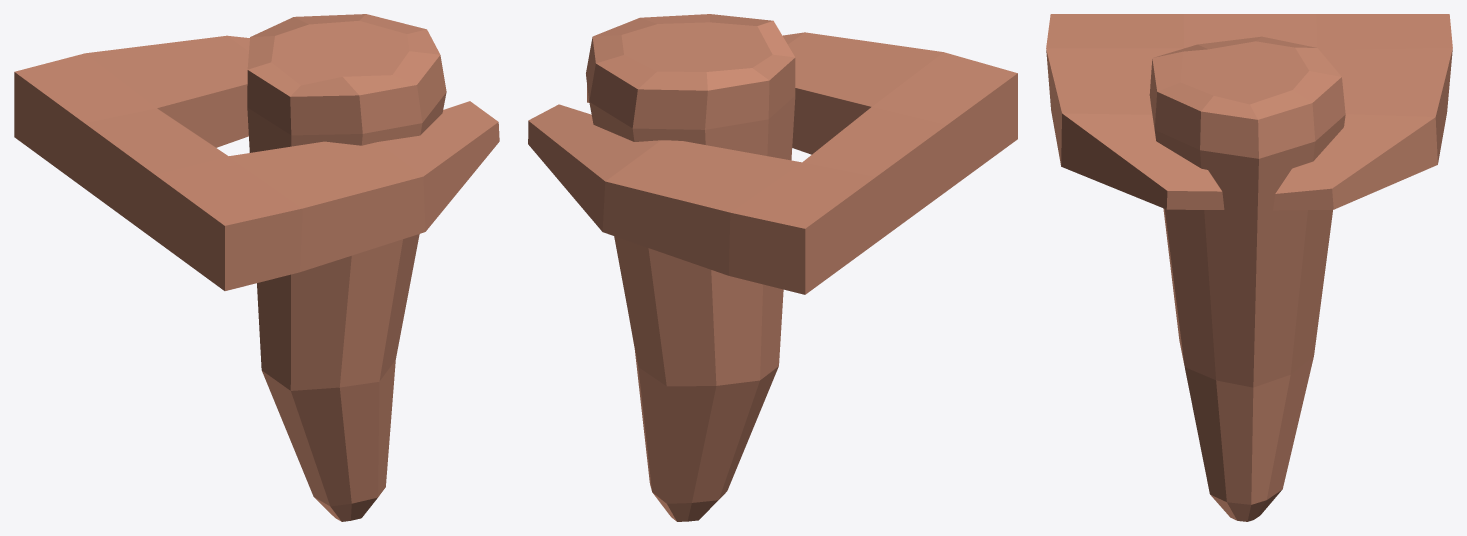
The model's file is Torch9 -COPY.fbx.
3 views of the same model, side by side, from view 1: azimuth 30°, elevation 25°; view 2: azimuth 150°, elevation 25°; view 3: azimuth 270°, elevation 25° (orthographic). The views are drawn at different scales.
Visible parts, largest first — view 1: Torch; view 2: Torch; view 3: Torch.
Part boxes in pixels (left/top/right/bottom): Torch: left=14, top=14, right=499, bottom=521; Torch: left=528, top=14, right=1017, bottom=521; Torch: left=1046, top=14, right=1452, bottom=521.
Bounding box in the file's own units: 0.6833 × 0.7543 × 0.9156.
